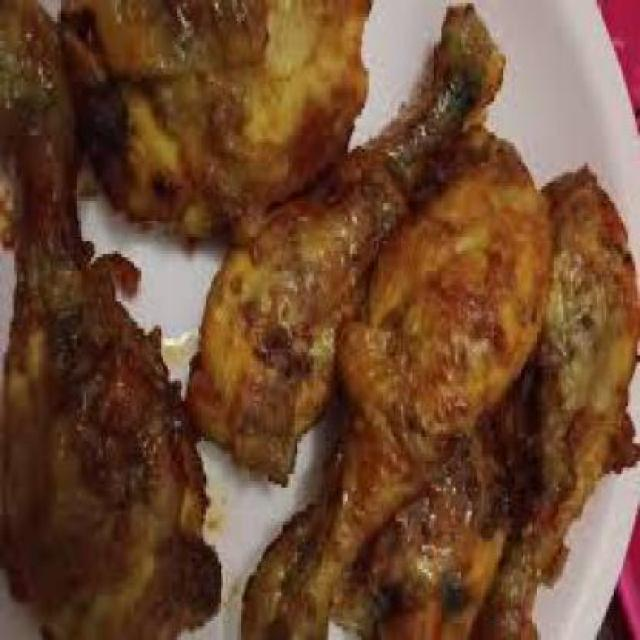Wet Waste: (245, 132, 549, 637), (194, 0, 506, 488), (0, 0, 226, 638), (468, 169, 637, 637), (64, 0, 376, 228)
